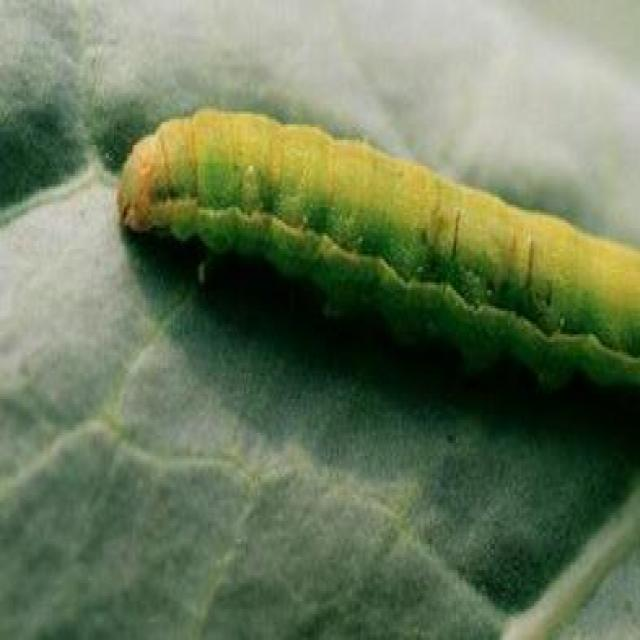BeetArmyWorm-Larva-: (108, 88, 638, 398)
